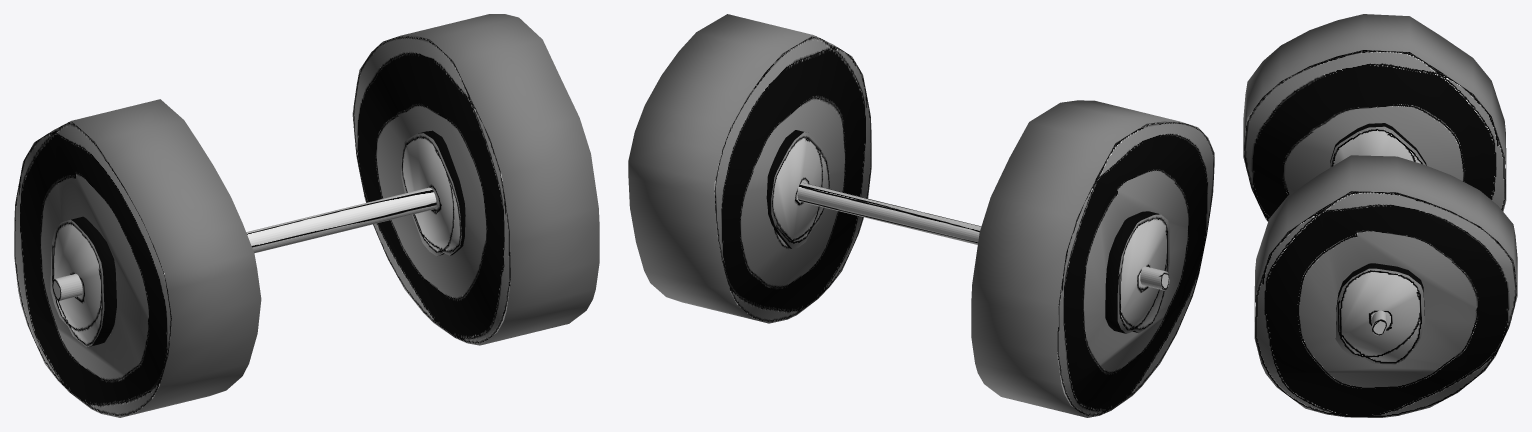
Rendered from DumbBell.fbx.
3 views of the same model, side by side, from view 1: azimuth 30°, elevation 25°; view 2: azimuth 150°, elevation 25°; view 3: azimuth 270°, elevation 25° (orthographic). The views are drawn at different scales.
Visible parts, largest first — view 1: Cube; view 2: Cube; view 3: Cube.
Boxes of the visible parts, x1,y1,x2,y2 form: Cube: (14,14,599,417); Cube: (628,14,1214,417); Cube: (1243,14,1517,417).
Size of the model in its own units: 335 by 176 by 192.
